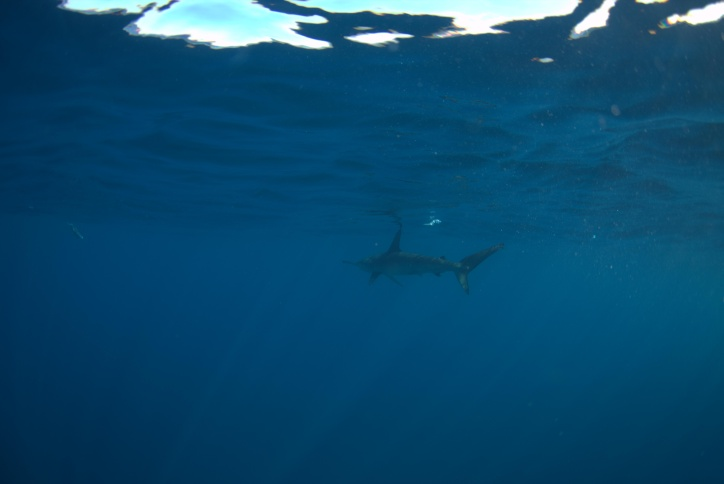Hammer: (306, 207, 501, 323)
